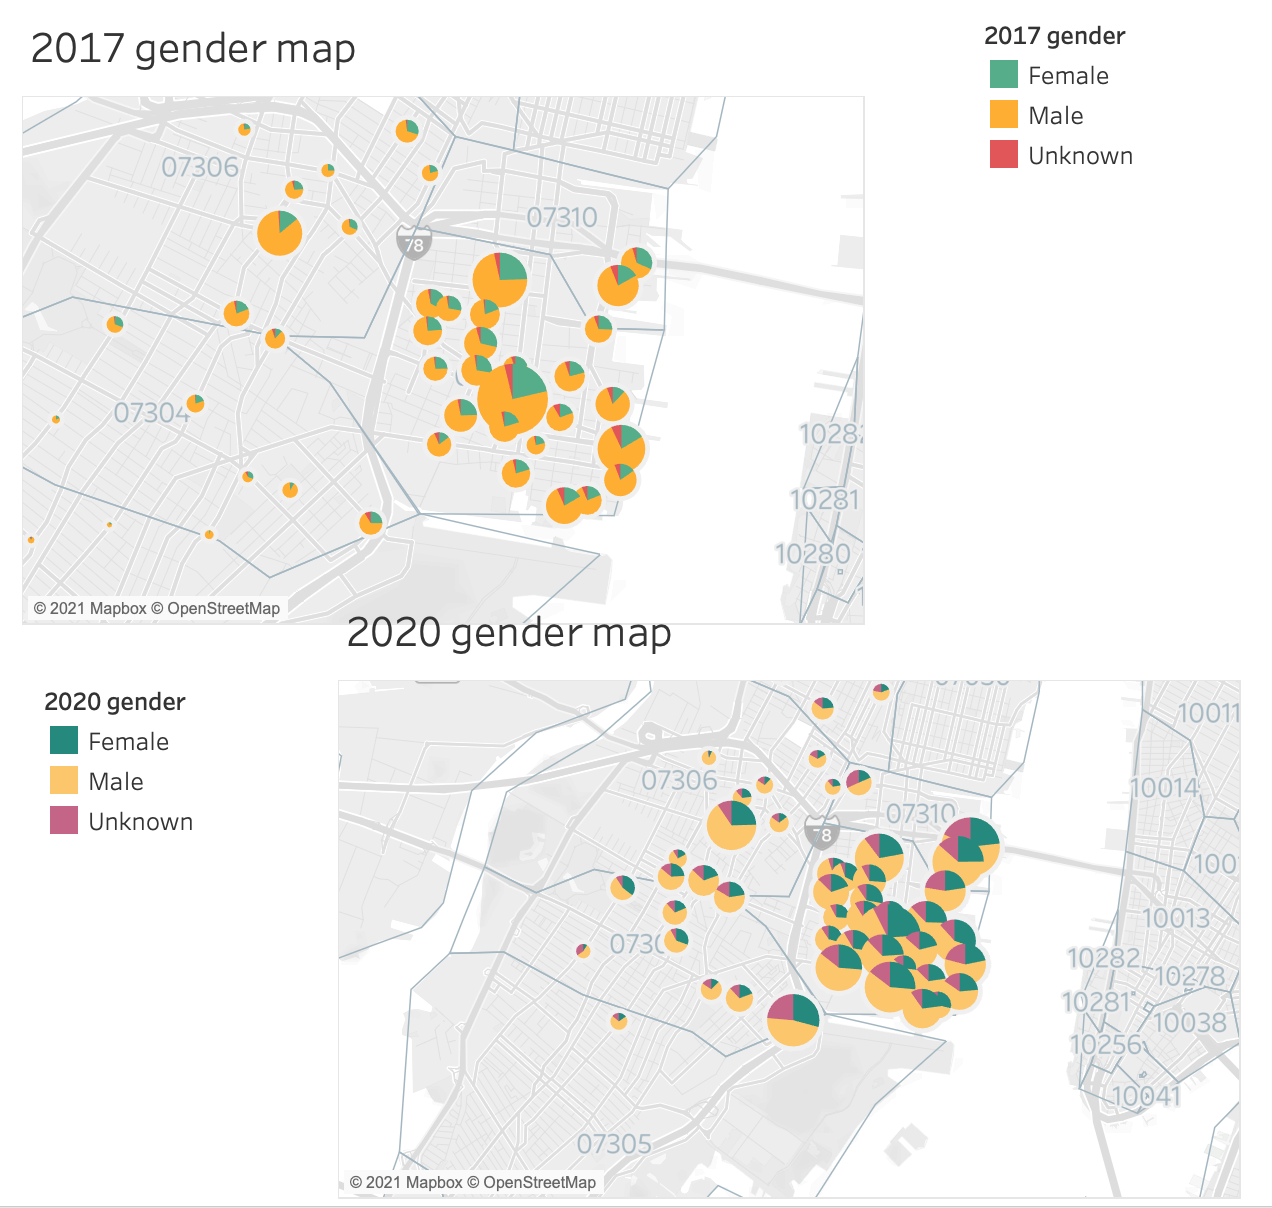

The page's visual inventory and layout, read from the dashboard file:
{"tool":"tableau","page":{"name":"gender age dashboard","canvas":[650,860],"ordinal":4},"visuals":[{"type":"worksheet","title":"2017 gender","mark":"Automatic","rows":["gender"],"cols":["Calculation_5917026291066982402","Calculation_5917026291129262086"],"box":[21,22.6,346,355.3]},{"type":"worksheet","title":"2017 gender","mark":"Automatic","rows":["gender"],"cols":["Calculation_5917026291066982402","Calculation_5917026291129262086"],"param":"[federated.1c9827w1xpwuis19zsb1p1s8apse].[none:Calculation_5917026291129262086:n","box":[461,69.1,140,222.8]},{"type":"worksheet","title":"2020 gender","mark":"Automatic","rows":["gender"],"cols":["Calculation_5917026291066175488","Calculation_5917026291072311300"],"box":[25,425.8,340,407.4]},{"type":"worksheet","title":"2020 gender","mark":"Automatic","rows":["gender"],"cols":["Calculation_5917026291066175488","Calculation_5917026291072311300"],"param":"[federated.1rg2co80vudg0q178a8760pwfxxw].[none:Calculation_5917026291072311300:n","box":[475,485,140,194.6]}]}

Visuals, with their boxes on the page's 650x860 design canvas (x1, y1, x2, y2). These are canvas units, not pixel positions in the 1272x1208 screenshot, which may show the page scaled, cropped or inside an application window:
"2017 gender" worksheet: region(21, 23, 367, 378)
"2017 gender" worksheet: region(461, 69, 601, 292)
"2020 gender" worksheet: region(25, 426, 365, 833)
"2020 gender" worksheet: region(475, 485, 615, 680)
